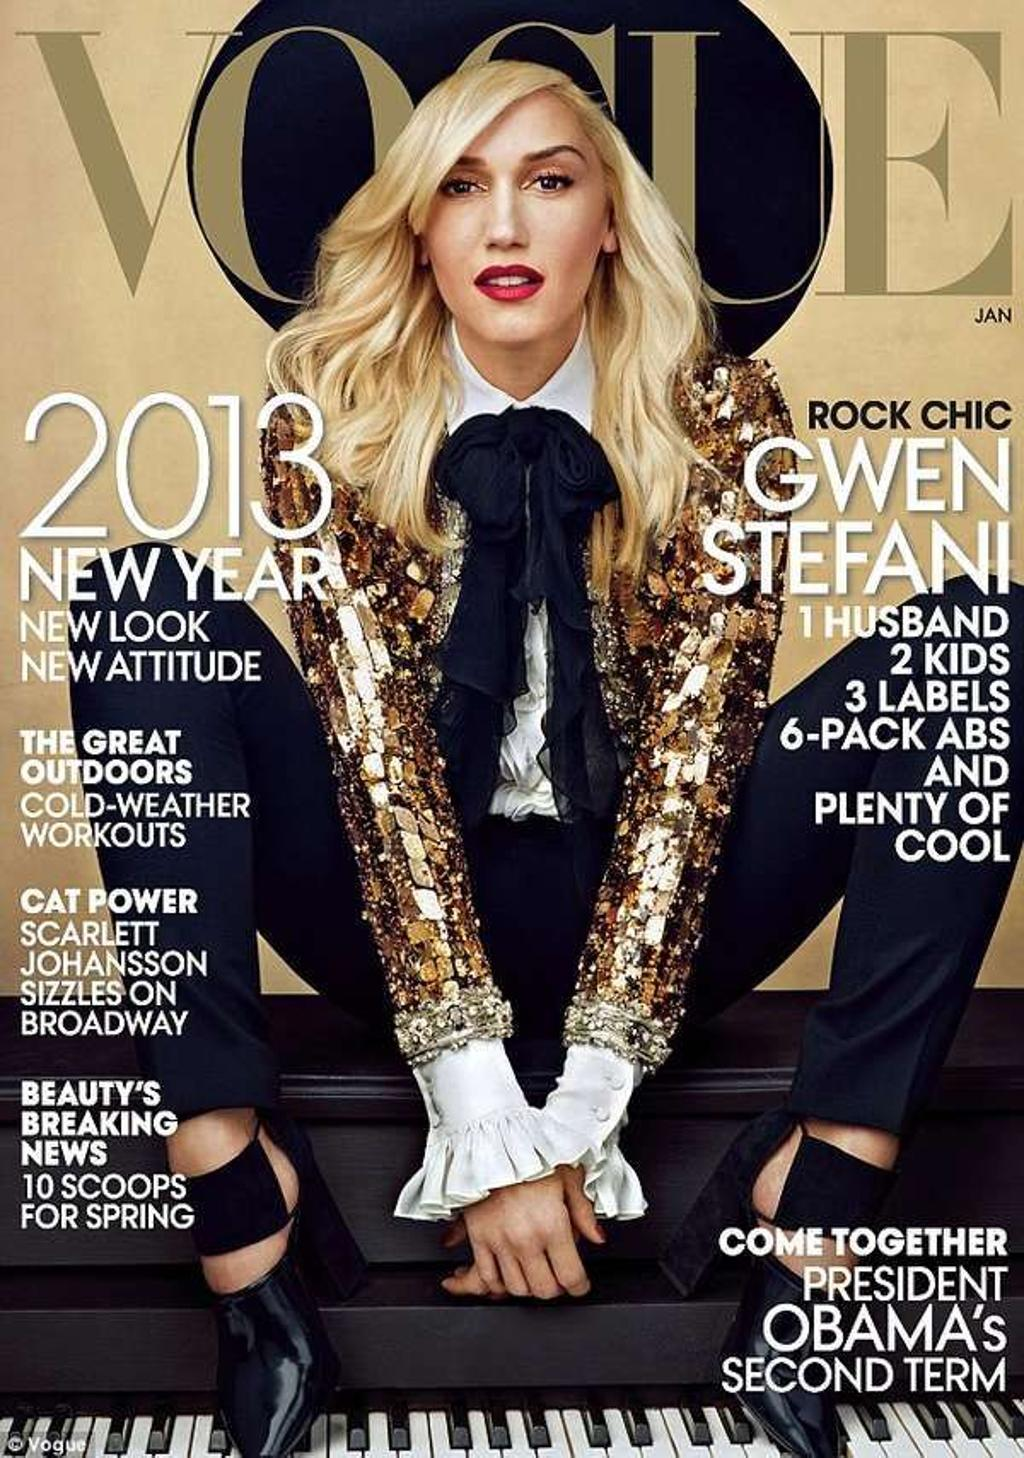face: (430, 119, 612, 341)
